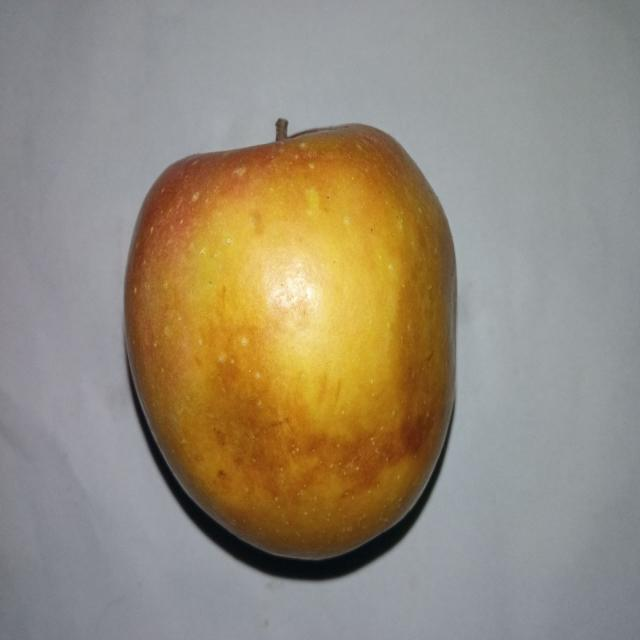fresh_apple: (121, 116, 458, 561)
